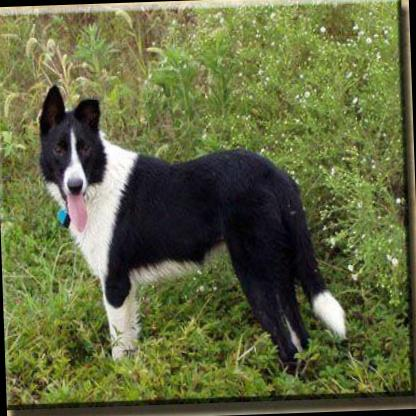Border_collie: (34, 74, 346, 379)
